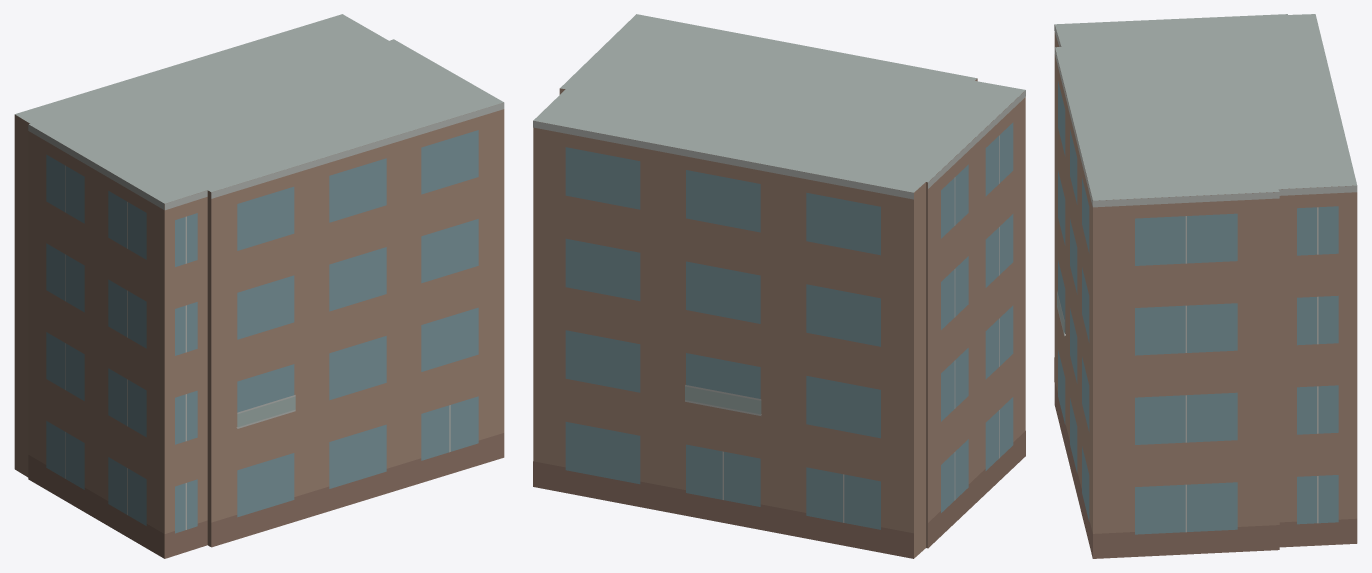
The model's file is survey-upis-32655337.glb.
The picture shows the model from 3 angles, left to right: view 1: azimuth 30°, elevation 25°; view 2: azimuth 150°, elevation 25°; view 3: azimuth 270°, elevation 25°; orthographic projection. The views are drawn at different scales.
Visible parts, largest first — view 1: survey-upis-32655337.tmp; view 2: survey-upis-32655337.tmp; view 3: survey-upis-32655337.tmp.
Part boxes in pixels (x1,y1,x2,y2): survey-upis-32655337.tmp: (14, 14, 504, 558); survey-upis-32655337.tmp: (533, 14, 1025, 558); survey-upis-32655337.tmp: (1054, 14, 1357, 558).
Bounding box in the file's own units: 14.66 × 13.1 × 10.05.
